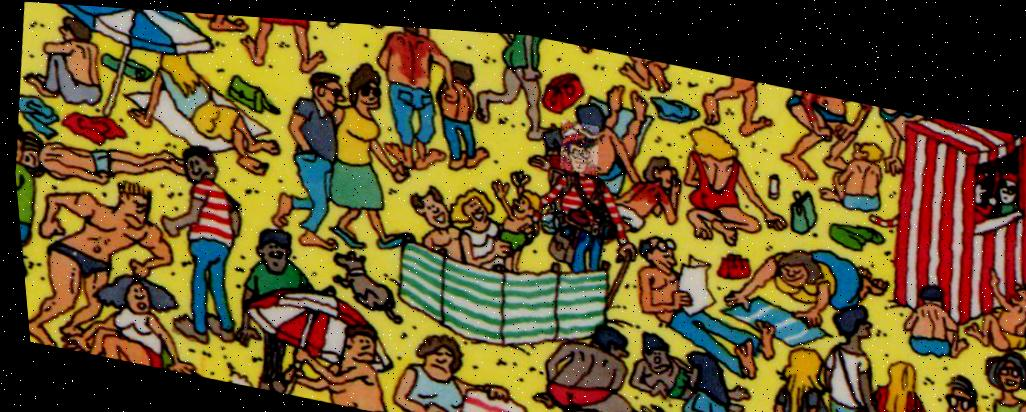waldo: (553, 111, 601, 168)
